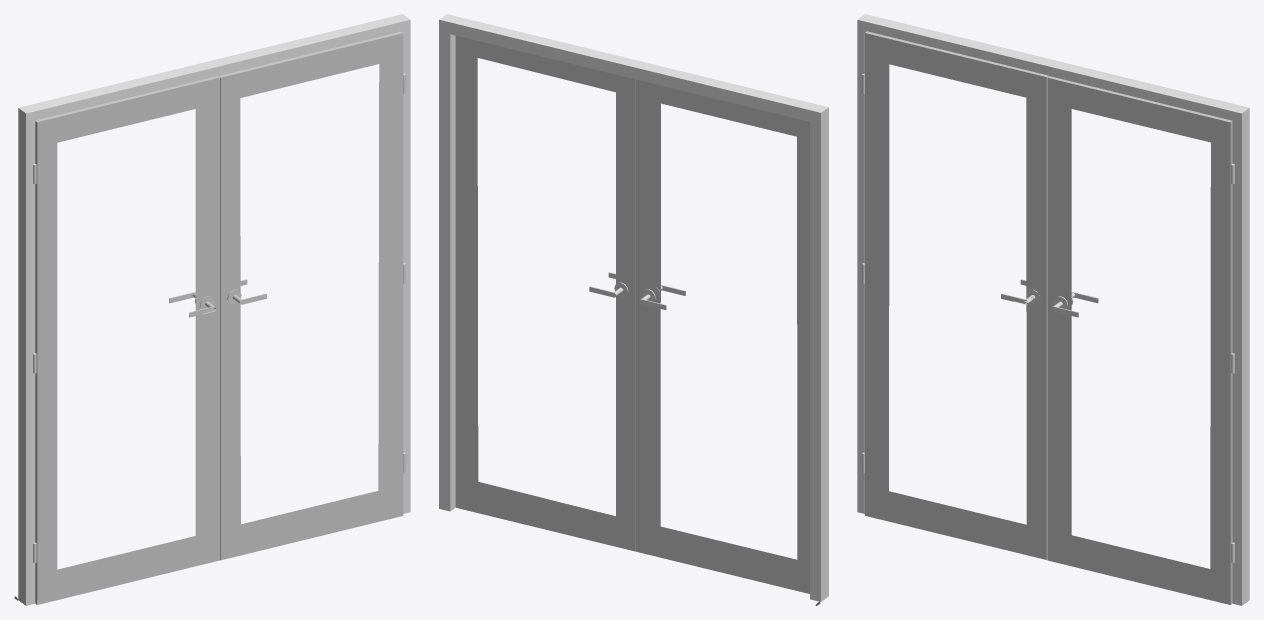
File: door_with_glass_full.glb
The picture shows the model from 3 angles, left to right: view 1: azimuth 30°, elevation 25°; view 2: azimuth 150°, elevation 25°; view 3: azimuth 330°, elevation 25°; orthographic projection.
Parts seen in each view (by area): view 1: Object_3, Object_2, Object_4; view 2: Object_3, Object_2, Object_4; view 3: Object_3, Object_2, Object_4.
Part boxes in pixels (x1=…): Object_3: x1=35, y1=31, x2=403, y2=604; Object_2: x1=18, y1=14, x2=410, y2=605; Object_4: x1=169, y1=279, x2=266, y2=317; Object_3: x1=455, y1=35, x2=809, y2=593; Object_2: x1=439, y1=14, x2=828, y2=601; Object_4: x1=589, y1=272, x2=685, y2=310; Object_3: x1=864, y1=31, x2=1232, y2=604; Object_2: x1=857, y1=14, x2=1249, y2=605; Object_4: x1=1001, y1=279, x2=1098, y2=317.
Size of the model in its own units: 1.7 by 2.08 by 0.1659.
5 materials, 1 textured.
